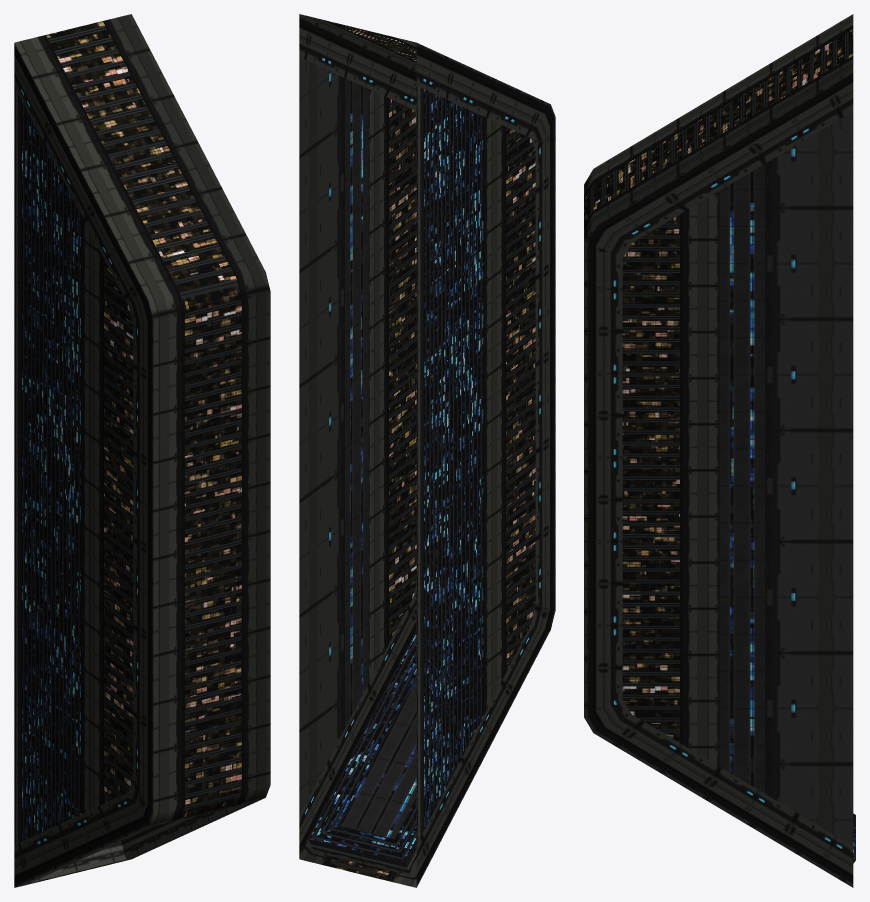
File: Ultra_Addon8.fbx
The picture shows the model from 3 angles, left to right: view 1: azimuth 30°, elevation 25°; view 2: azimuth 150°, elevation 25°; view 3: azimuth 270°, elevation 25°; orthographic projection. The views are drawn at different scales.
Visible parts, largest first — view 1: pPlane35; view 2: pPlane35; view 3: pPlane35.
Part boxes in pixels (box(x1,y1,x2,y2)): pPlane35: box(14, 14, 270, 887); pPlane35: box(299, 14, 555, 887); pPlane35: box(584, 14, 855, 887).
Size of the model in its own units: 3.41 by 23.48 by 7.06.
Materials: 1 (1 with a texture image).
